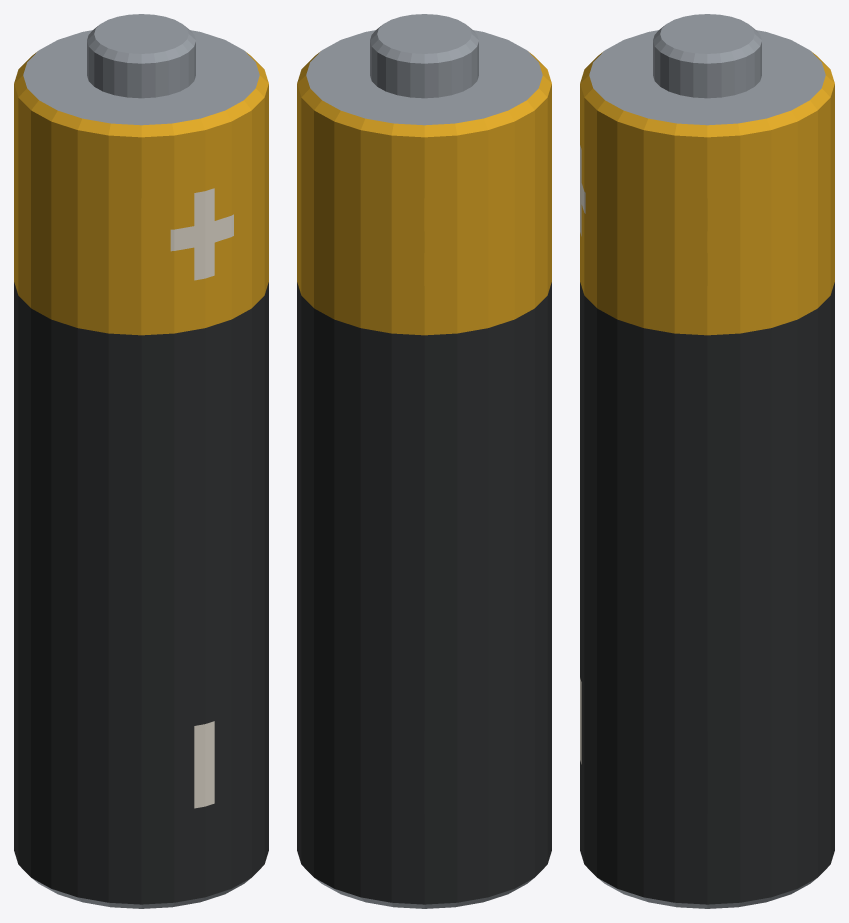
Rendered from aa_battery.glb.
The picture shows the model from 3 angles, left to right: view 1: azimuth 30°, elevation 25°; view 2: azimuth 150°, elevation 25°; view 3: azimuth 270°, elevation 25°; orthographic projection.
Visible parts, largest first — view 1: AA cell with raised positive terminal; view 2: AA cell with raised positive terminal; view 3: AA cell with raised positive terminal.
Part boxes in pixels (left/top/right/bottom): AA cell with raised positive terminal: left=14, top=14, right=268, bottom=908; AA cell with raised positive terminal: left=297, top=14, right=551, bottom=908; AA cell with raised positive terminal: left=580, top=14, right=834, bottom=908.
Bounding box in the file's own units: 0.014 × 0.05 × 0.014.
